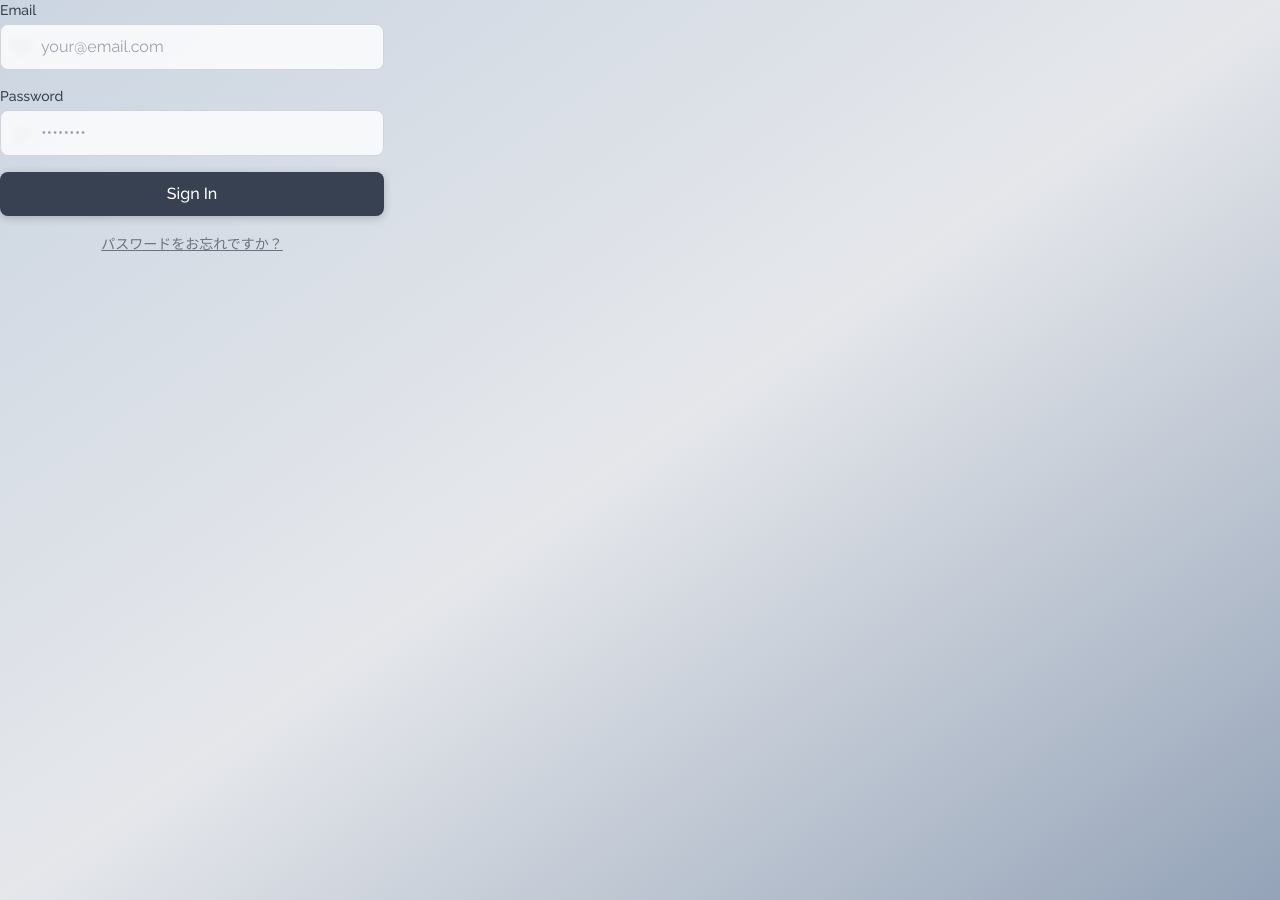
Scenario: AuthForm › password reset › shows success message after reset email sent
Step 1. Click the button "パスワードをお忘れですか？" → (192, 244), box [101,234,283,254]
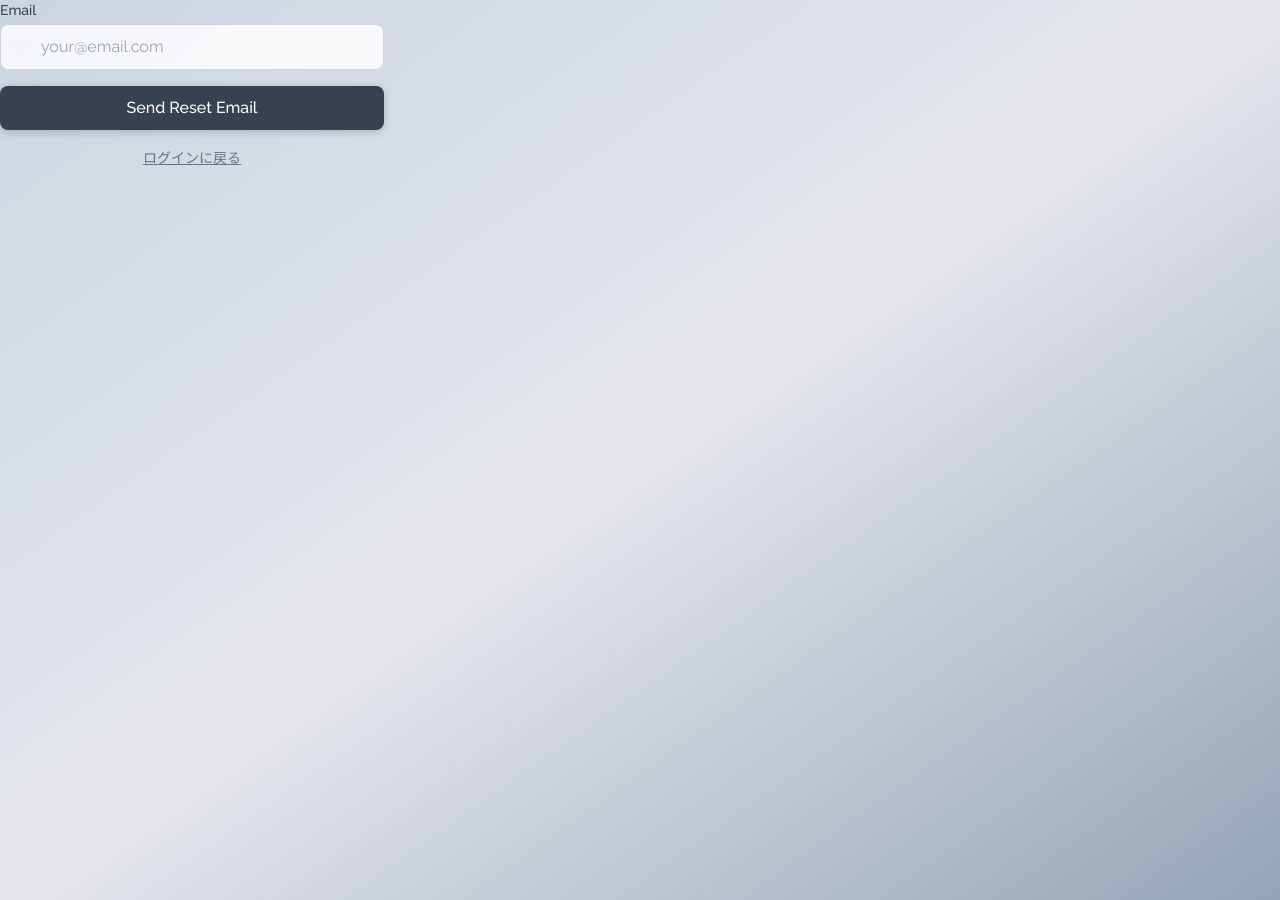
Step 2. Type "reset@example.com" into the field labelled "Email" → (192, 47), box [0,24,384,70]
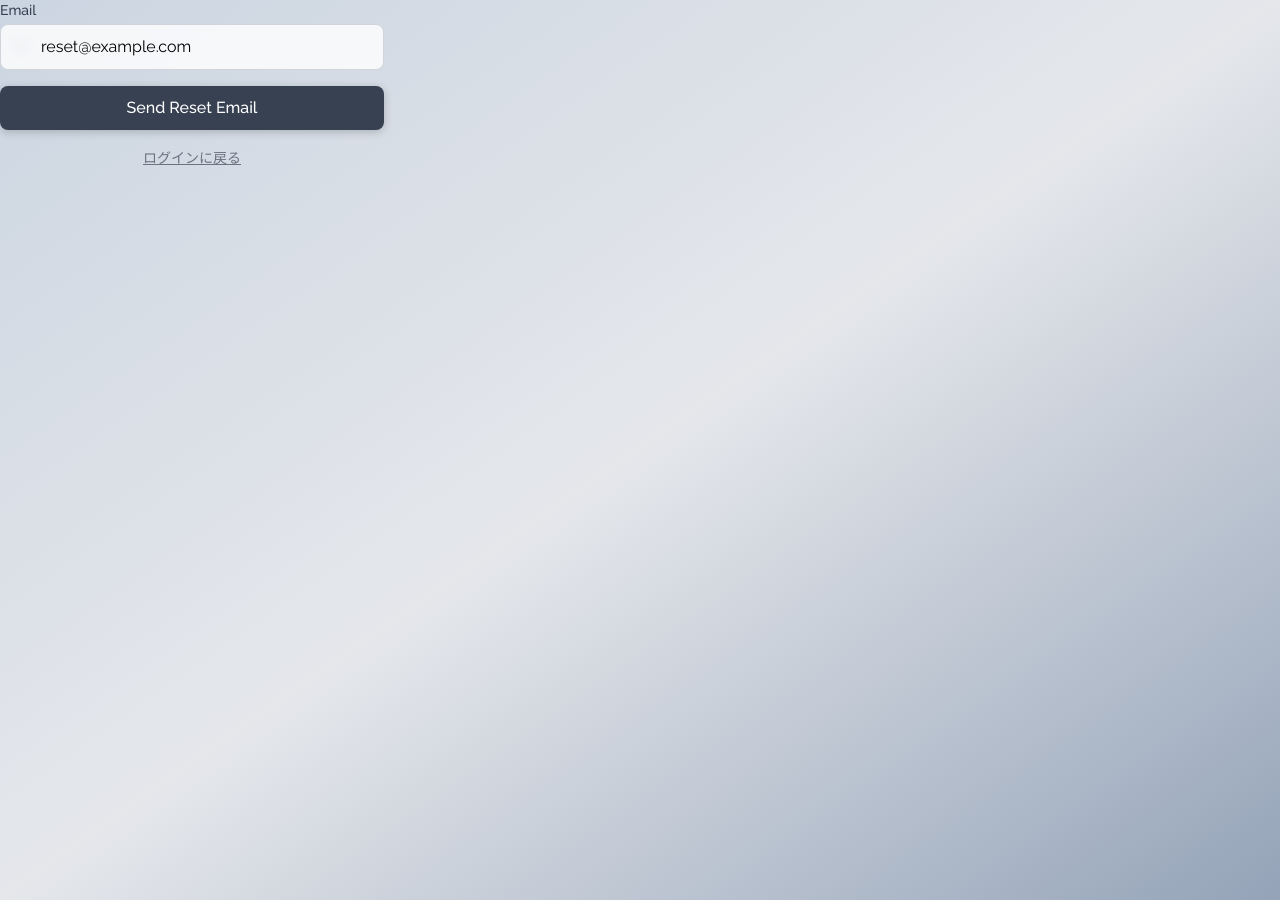
Step 3. Click the button "Send Reset Email" → (192, 108), box [0,86,384,130]
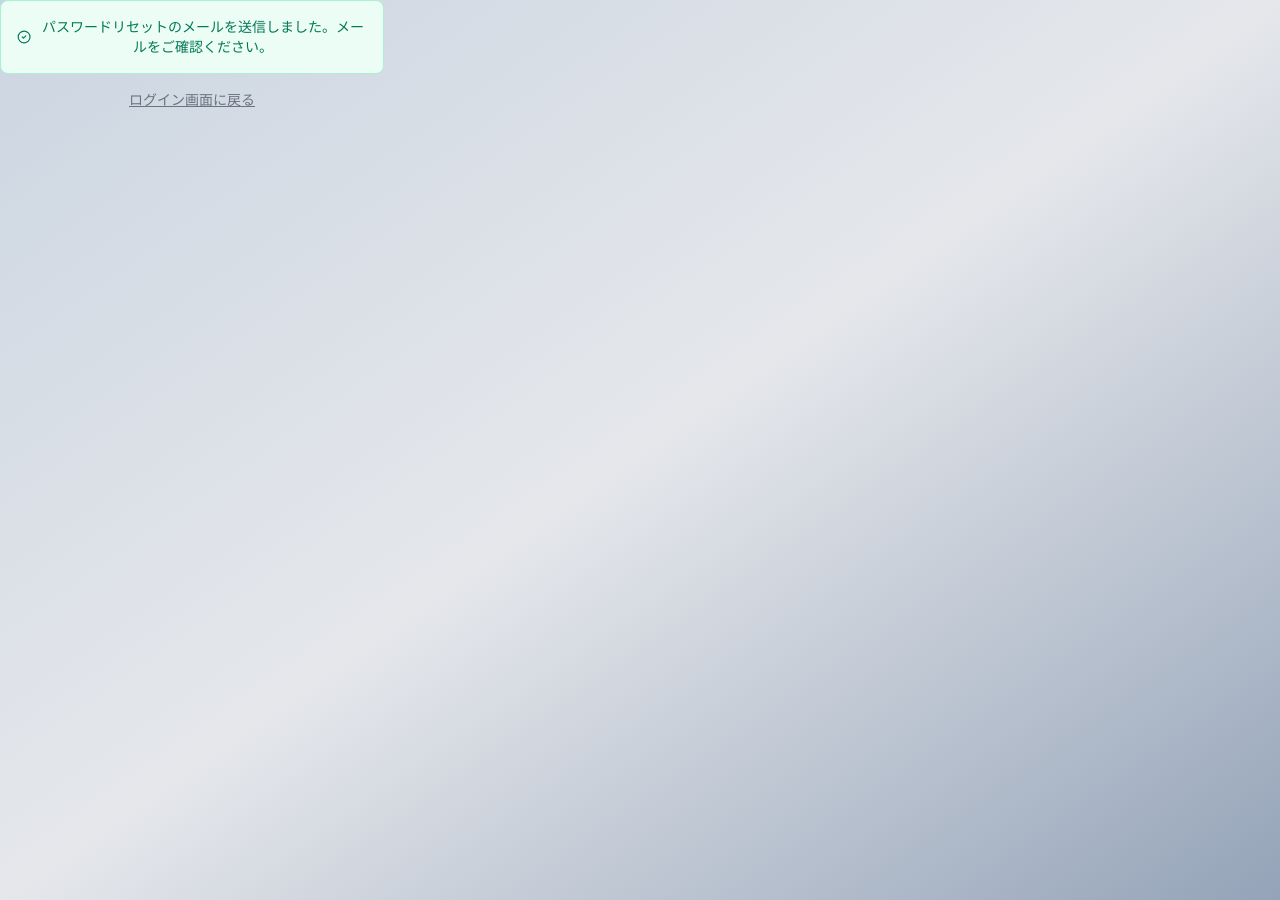
Check: the text "パスワードリセットのメールを送信しました。メールをご確認ください。" is shown, box [39,17,367,57]
